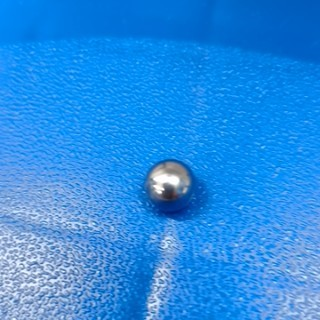ironball: (132, 150, 201, 213)
